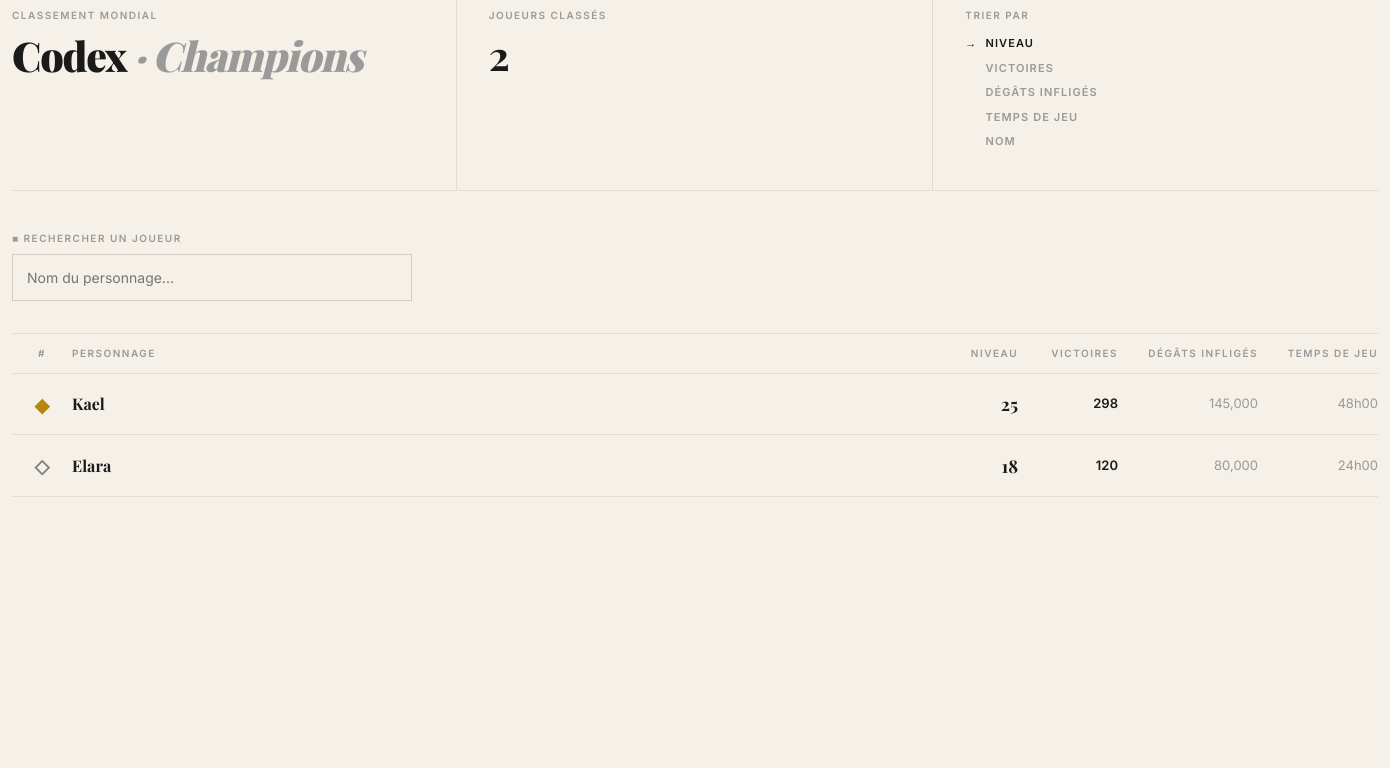
Test: LeaderboardView › affiche une erreur si caractères non autorisés
In the field with placeholder "Nom du personnage...": (212, 277) [12,254,412,300], type "<script>"
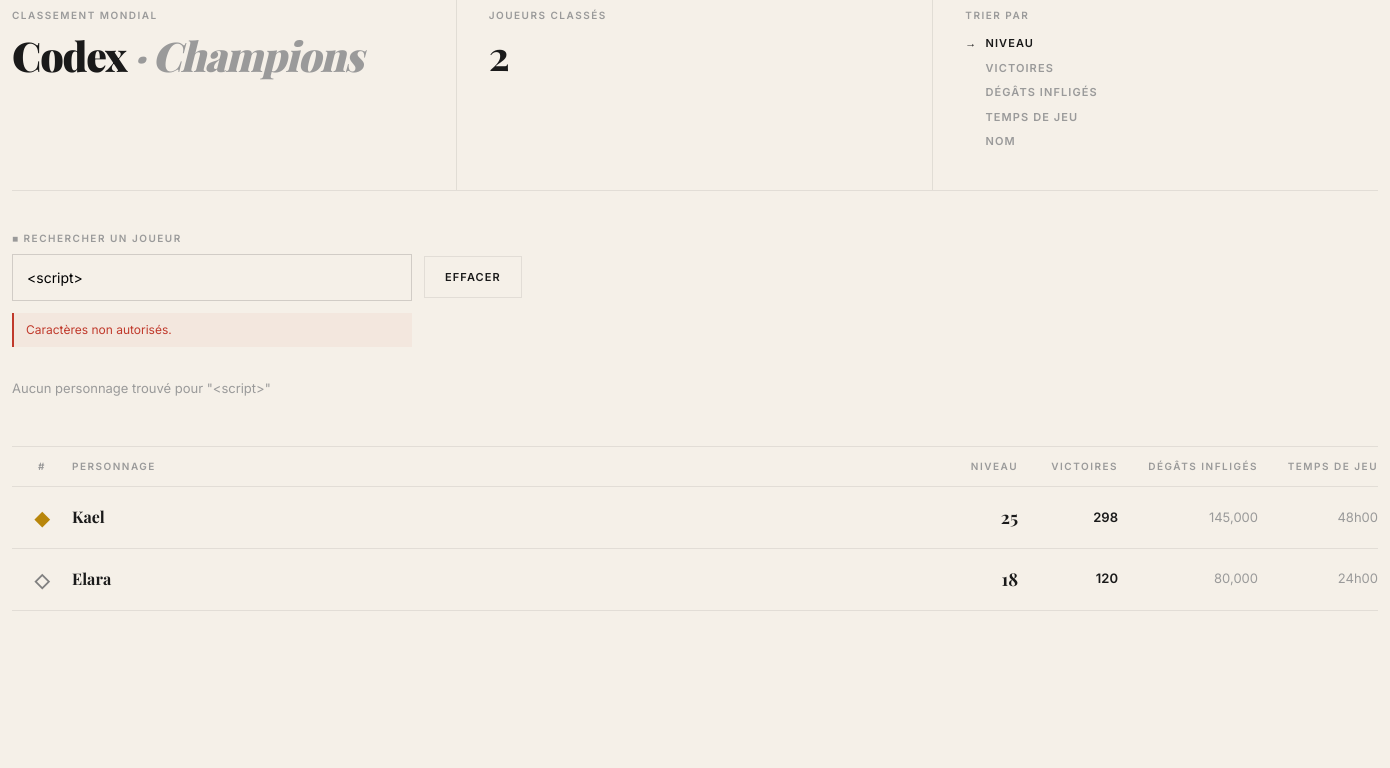
Check: the text "non autorisés" is shown, box [26,322,172,336]
